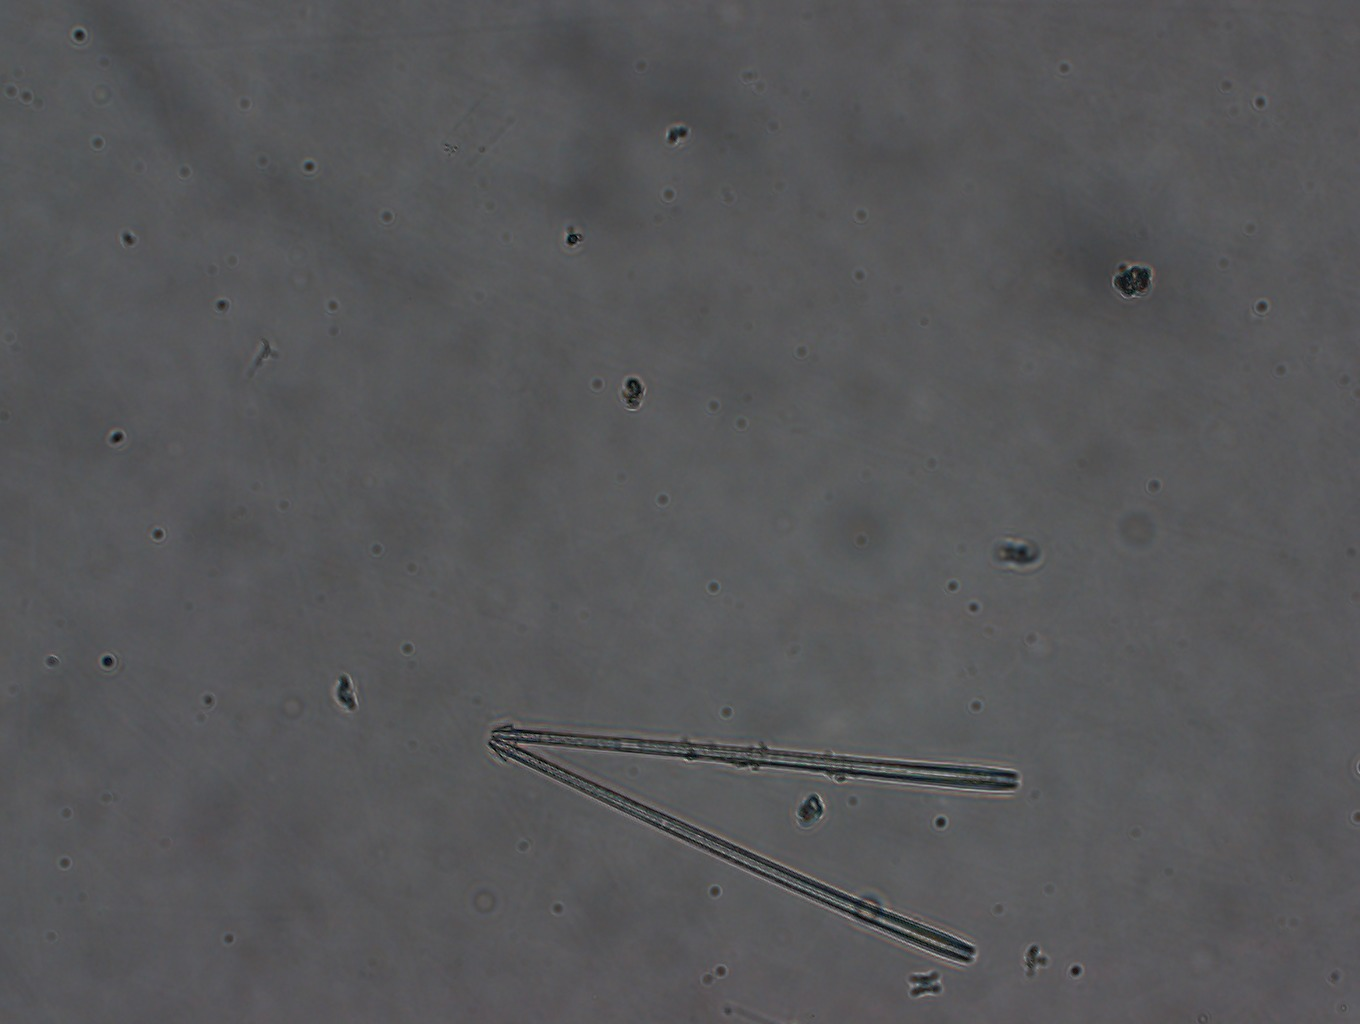thalassionema frauenfeldii: (486, 725, 1023, 969)
